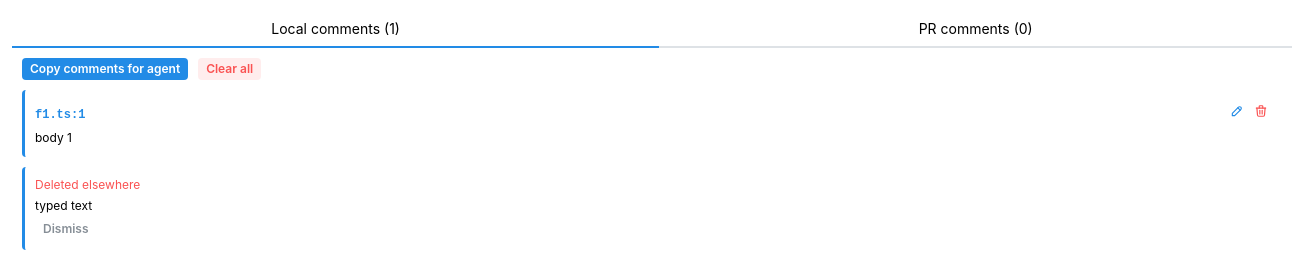
Test: ReviewSidebar › lists a deleted-elsewhere draft after the live comments until dismissed
Check: the text "Deleted elsewhere" is shown, box [35,177,140,192]
What coordinates should you click on to do the following:
click the button "Dismiss"
I would click on:
 (66, 229)
Its box is [35,218,96,240].
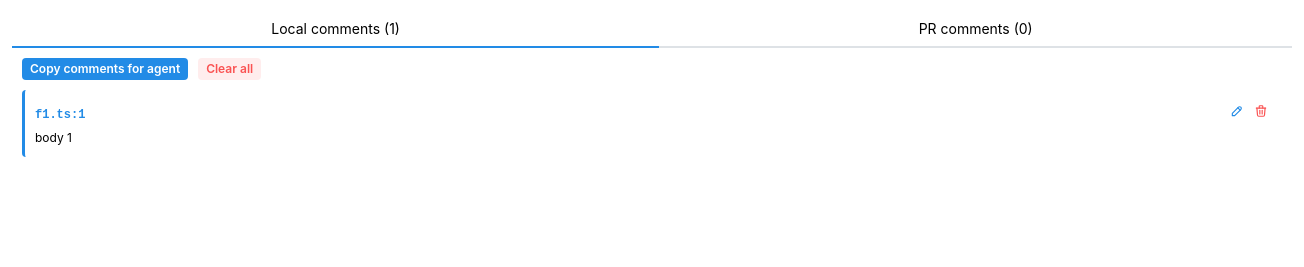
Check: the text "Deleted elsewhere" is gone
